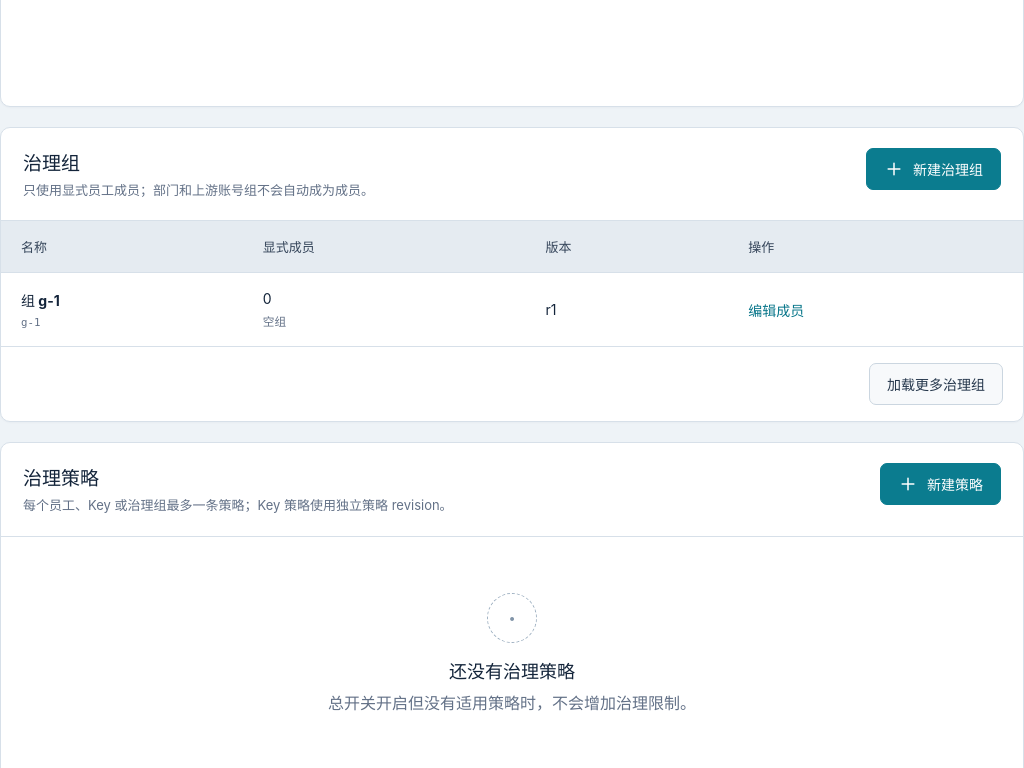
Scenario: governance management page › shows the default-off boundary, keeps governance groups separate, and paginates by after_id
(page scrolled)
Click the button "加载更多治理组" at (936, 384), box [869,363,1003,405]
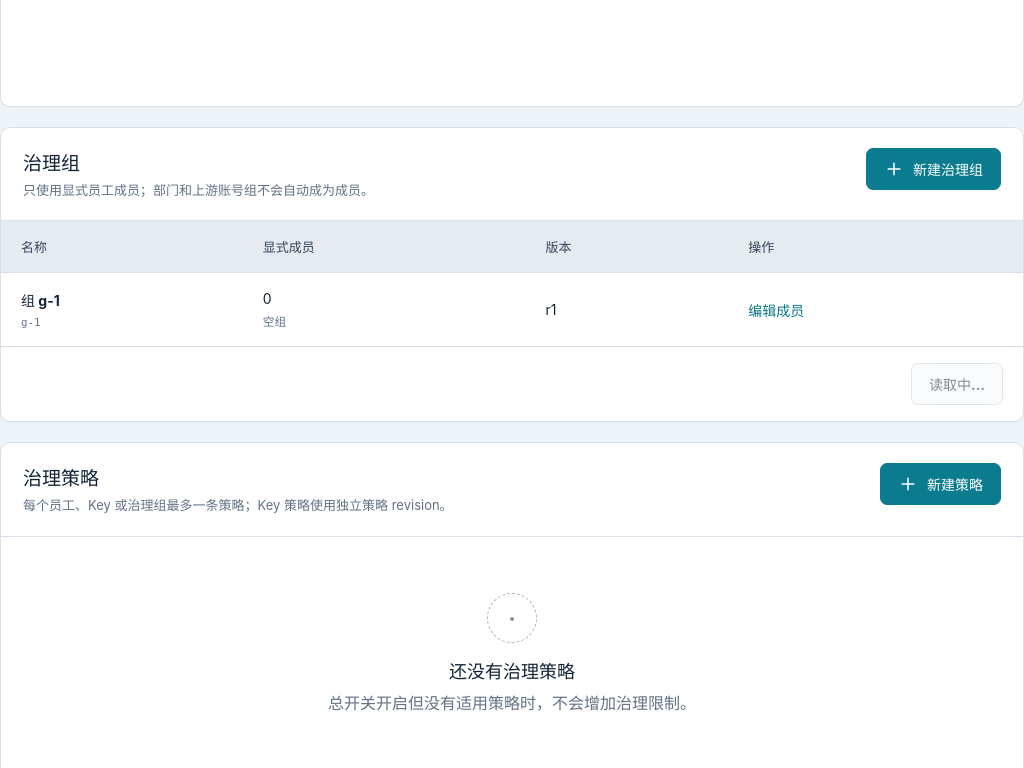
Click the button named "加载更多治理组" at (957, 384), box [911,363,1003,405]
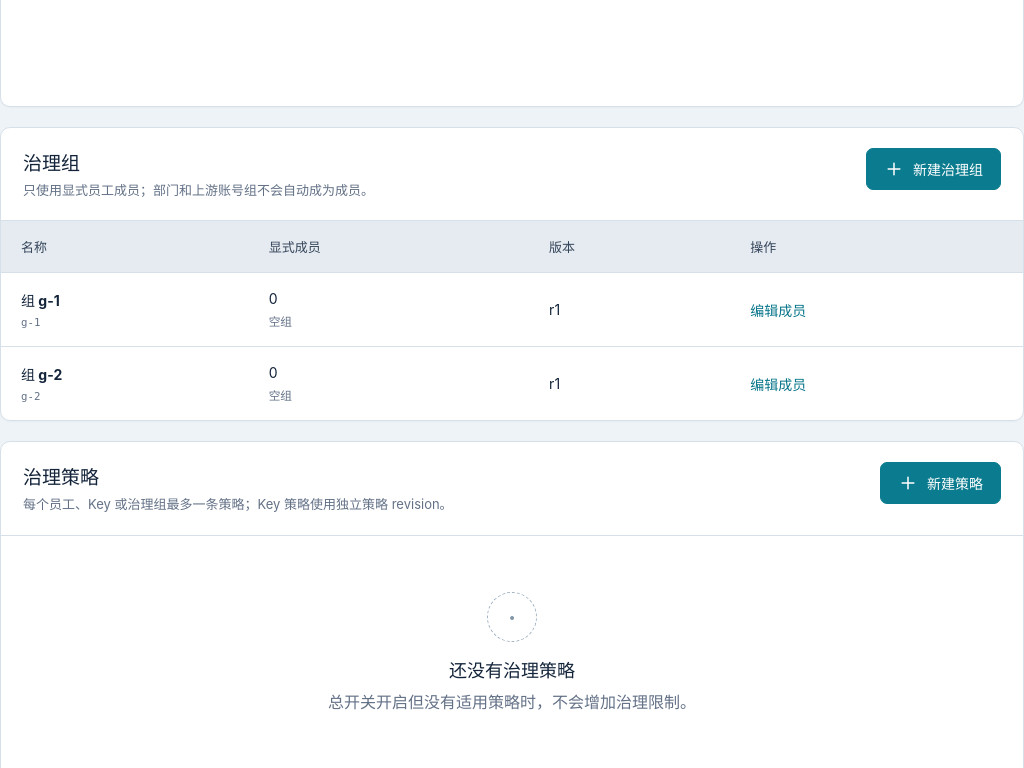
Result: the text "组 g-2" is shown at [21,366,62,383]
